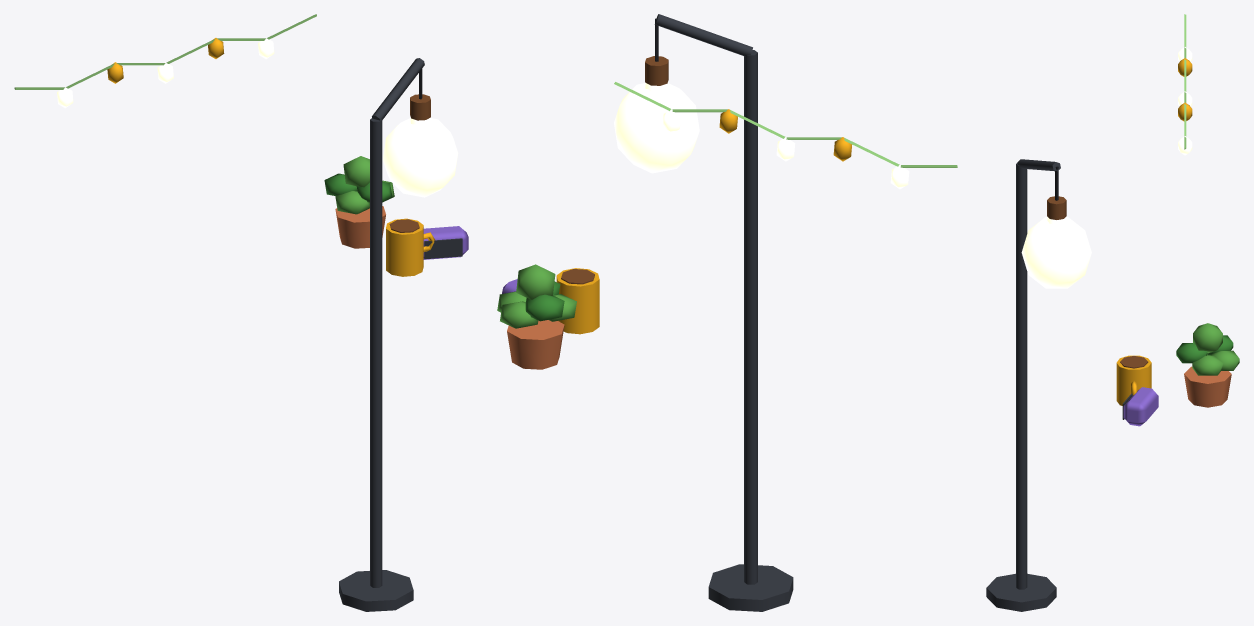
File: station_intake_ausstattung_3_3.glb
3 views of the same model, side by side, from view 1: azimuth 30°, elevation 25°; view 2: azimuth 150°, elevation 25°; view 3: azimuth 270°, elevation 25° (orthographic). The views are drawn at different scales.
Visible parts, largest first — view 1: station_intake_ausstattung_3_3; view 2: station_intake_ausstattung_3_3; view 3: station_intake_ausstattung_3_3.
Boxes of the visible parts, box(x1,y1,x2,y2) form: station_intake_ausstattung_3_3: box(14, 14, 468, 611); station_intake_ausstattung_3_3: box(497, 14, 957, 611); station_intake_ausstattung_3_3: box(986, 14, 1239, 611).
Size of the model in its own units: 1.27 by 1.46 by 0.7199.
